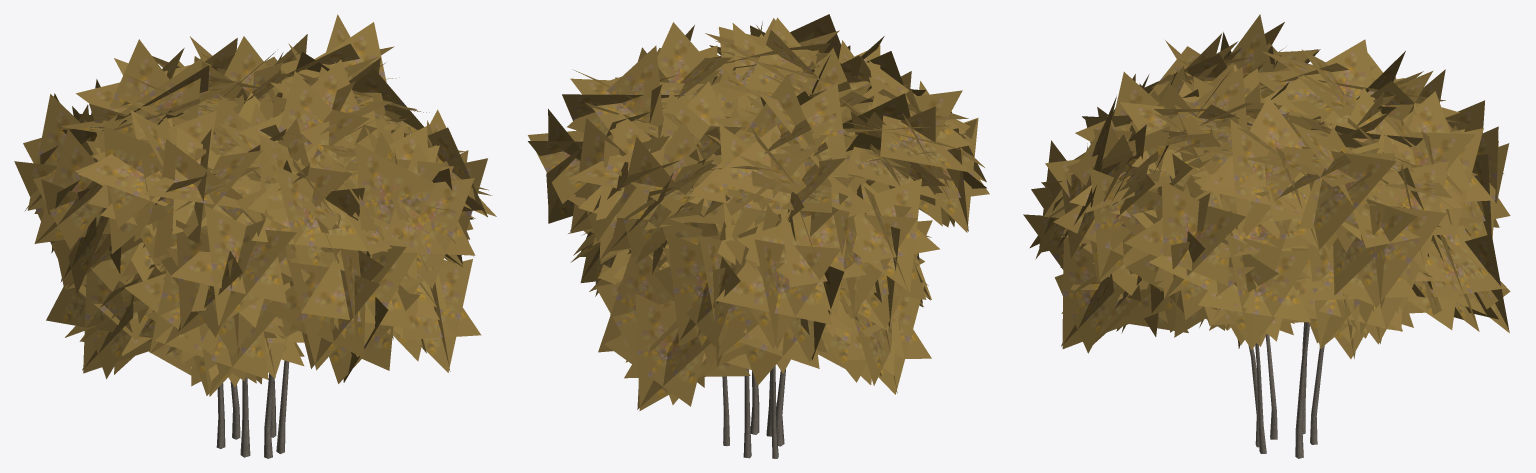
Rendered from Aralia_Elata_Autumn_Young.glb.
3 renders of one model, left to right at view 1: azimuth 30°, elevation 25°; view 2: azimuth 150°, elevation 25°; view 3: azimuth 270°, elevation 25°, orthographic. The views are drawn at different scales.
Parts seen in each view (by area): view 1: Aralia_Elata_Autumn_Young__LOD3; view 2: Aralia_Elata_Autumn_Young__LOD3; view 3: Aralia_Elata_Autumn_Young__LOD3.
Boxes of the visible parts, x1,y1,x2,y2 form: Aralia_Elata_Autumn_Young__LOD3: (14, 14, 496, 458); Aralia_Elata_Autumn_Young__LOD3: (528, 14, 989, 458); Aralia_Elata_Autumn_Young__LOD3: (1023, 14, 1510, 458).
Size of the model in its own units: 3.28 by 3.09 by 3.63.
Materials: 3 (3 with a texture image).
